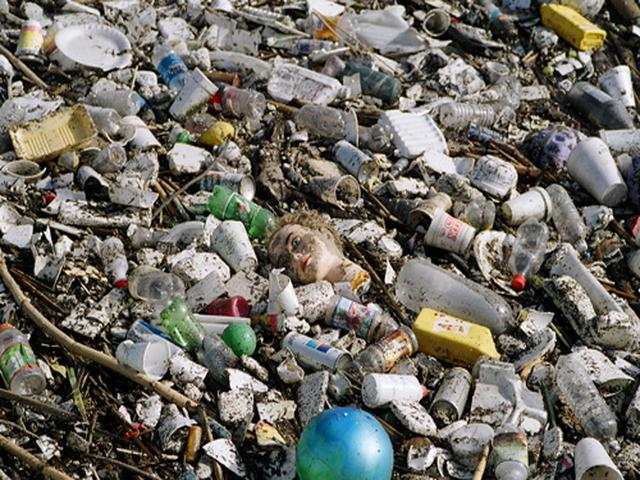garbage: (386, 15, 640, 472), (11, 13, 261, 474), (263, 10, 390, 212)
